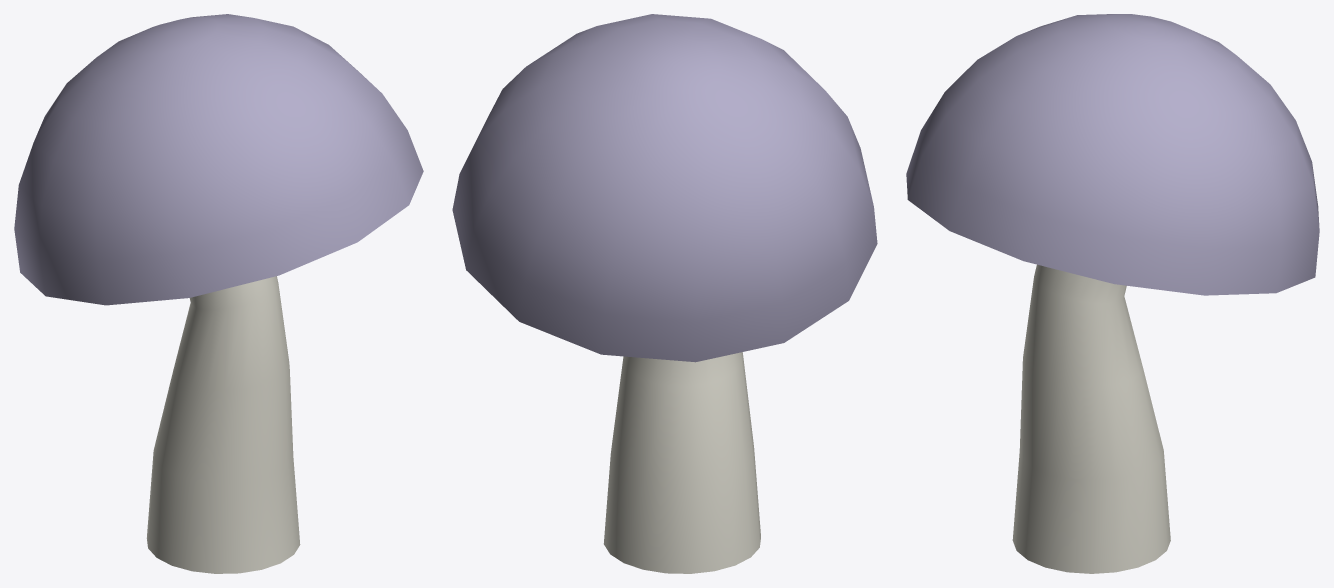
The model's file is MushroomPaarsKlein.fbx.
3 views of the same model, side by side, from view 1: azimuth 30°, elevation 25°; view 2: azimuth 150°, elevation 25°; view 3: azimuth 270°, elevation 25° (orthographic). The views are drawn at different scales.
Visible parts, largest first — view 1: polySurface3399; view 2: polySurface3399; view 3: polySurface3399.
Part boxes in pixels (x1,y1,x2,y2): polySurface3399: [14, 14, 423, 573]; polySurface3399: [452, 14, 877, 573]; polySurface3399: [906, 14, 1319, 573].
Size of the model in its own units: 0.0434 by 0.0579 by 0.0424.
